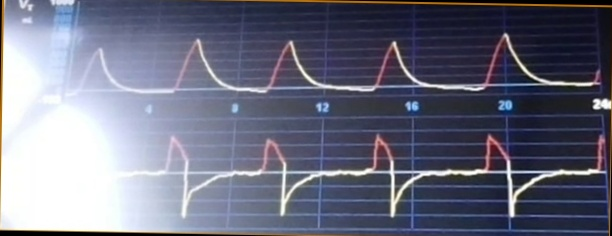Normal Flow: (97, 126, 604, 220)
Normal Volume: (69, 26, 602, 95)
